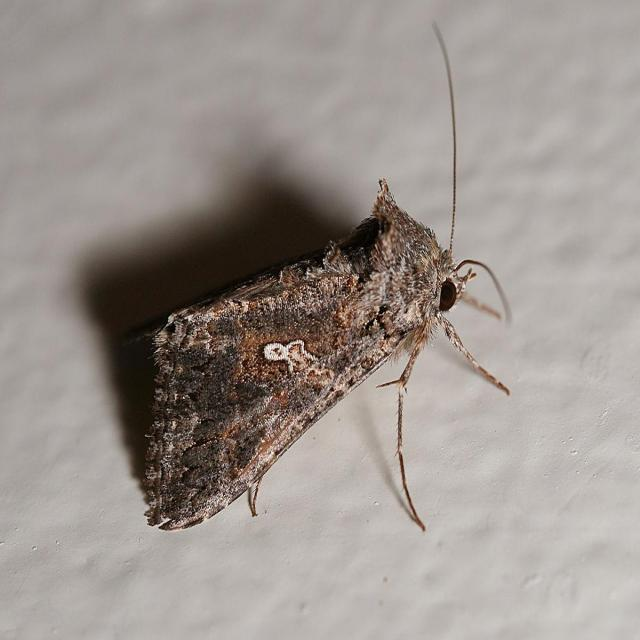armyworm: (149, 174, 508, 528)
